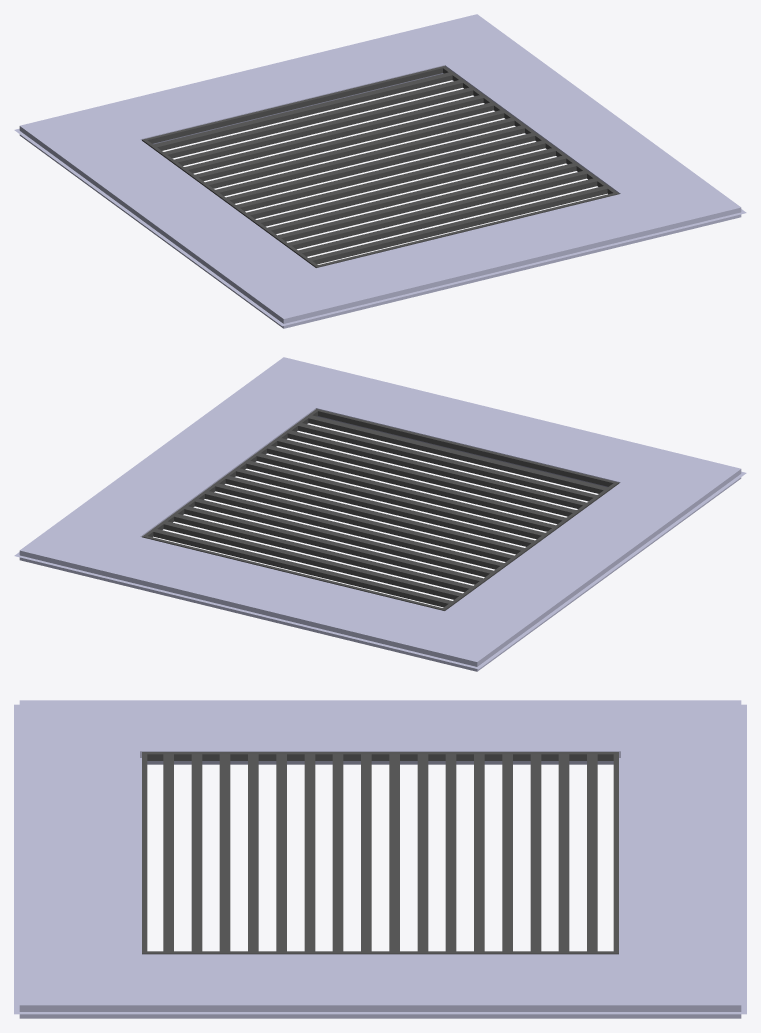
The model's file is FloorGrateTwosided.fbx.
The picture shows the model from 3 angles, top to bottom: view 1: azimuth 30°, elevation 25°; view 2: azimuth 150°, elevation 25°; view 3: azimuth 270°, elevation 25°; orthographic projection. The views are drawn at different scales.
Visible parts, largest first — view 1: FloorGrateTwosided; view 2: FloorGrateTwosided; view 3: FloorGrateTwosided.
Boxes of the visible parts, x1,y1,x2,y2 form: FloorGrateTwosided: (14, 14, 746, 328); FloorGrateTwosided: (14, 357, 746, 671); FloorGrateTwosided: (14, 700, 746, 1018).
Bounding box in the file's own units: 200 × 4 × 200.
